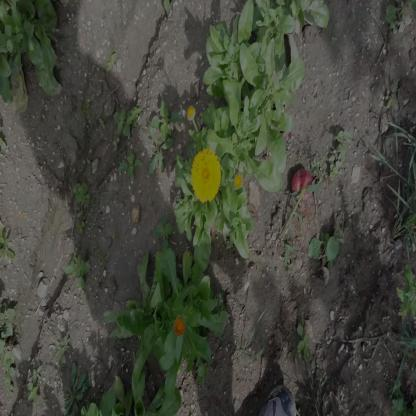marigold: (193, 149, 221, 200)
